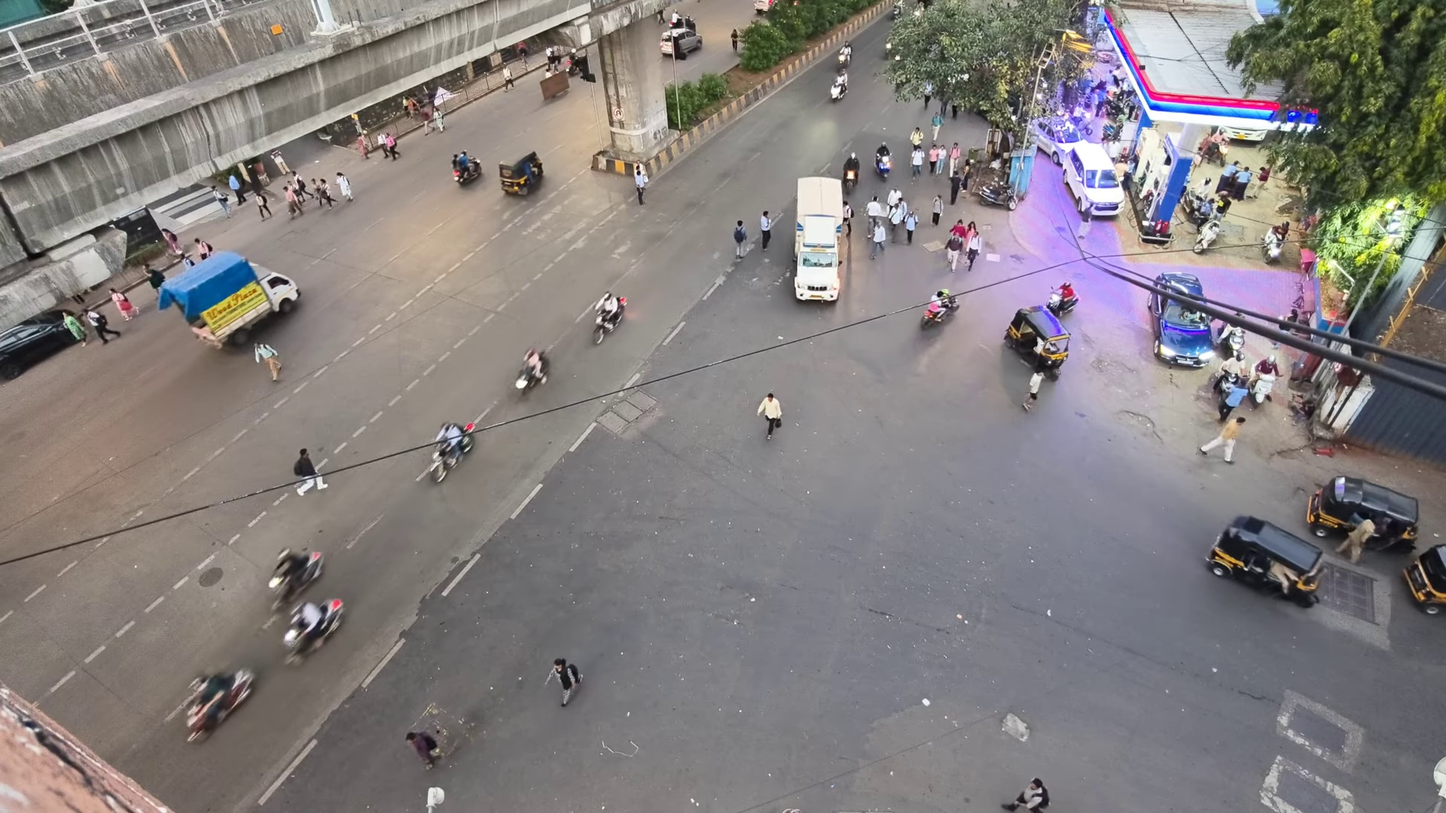walking: (1009, 368, 1045, 809), (1198, 417, 1245, 462), (1336, 518, 1376, 562), (293, 448, 328, 495), (1001, 778, 1048, 812), (554, 658, 582, 706), (1219, 379, 1249, 422), (405, 732, 439, 769), (84, 309, 120, 343), (757, 393, 781, 438), (255, 343, 281, 381), (109, 288, 138, 321), (63, 312, 87, 346), (1215, 161, 1240, 192), (889, 200, 907, 242), (966, 221, 981, 270), (946, 233, 963, 272), (866, 196, 883, 234), (870, 218, 886, 258), (313, 178, 334, 208), (1233, 166, 1252, 199), (210, 186, 230, 217), (162, 228, 184, 256), (293, 174, 315, 202), (284, 184, 302, 218), (228, 171, 245, 205), (634, 164, 648, 204), (270, 150, 291, 175), (733, 221, 747, 258), (911, 145, 925, 181), (336, 172, 353, 200), (760, 210, 771, 251), (932, 144, 947, 174), (382, 132, 398, 160), (194, 238, 214, 260), (146, 267, 165, 290), (961, 159, 974, 192), (904, 211, 917, 244), (255, 194, 271, 220), (948, 142, 960, 175), (950, 172, 962, 205), (928, 143, 940, 175), (843, 200, 853, 236), (931, 111, 943, 140), (932, 194, 943, 224), (886, 187, 901, 208), (909, 126, 923, 147), (731, 28, 740, 53), (181, 254, 196, 269), (504, 65, 513, 90)
